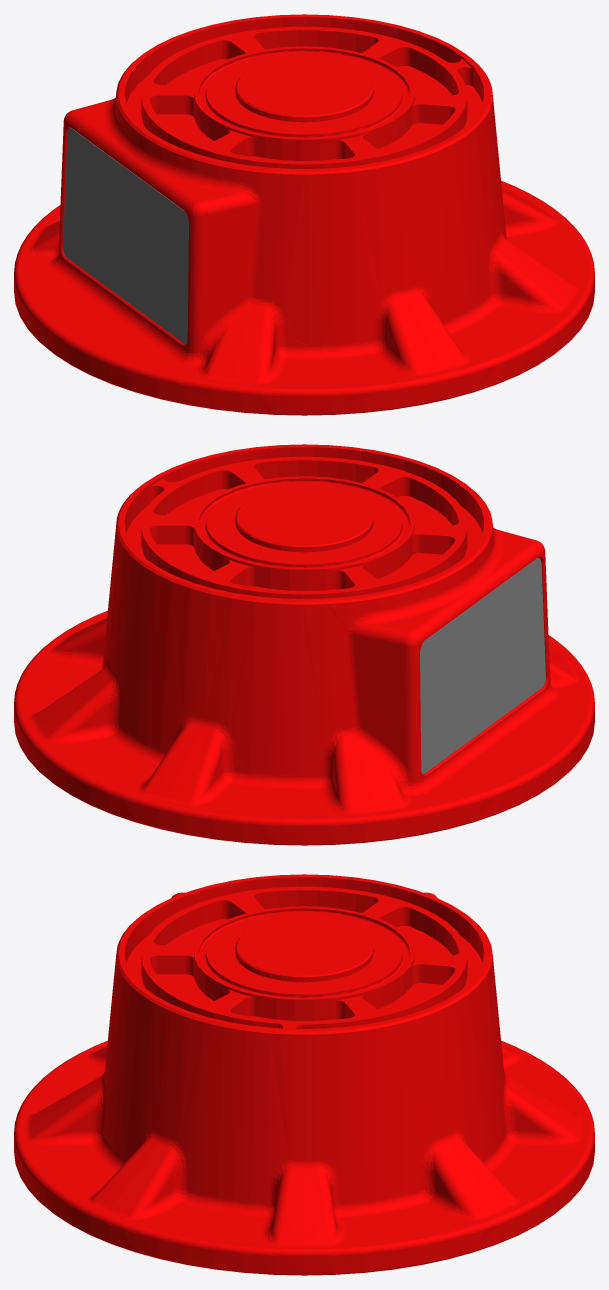
Rendered from SawyerLink0.dae.
3 views of the same model, one above another, from view 1: azimuth 30°, elevation 25°; view 2: azimuth 150°, elevation 25°; view 3: azimuth 270°, elevation 25° (orthographic).
Parts seen in each view (by area): view 1: SawyerLink0; view 2: SawyerLink0; view 3: SawyerLink0.
Part boxes in pixels (x1,y1,x2,y2): SawyerLink0: (14, 14, 594, 415); SawyerLink0: (14, 444, 594, 845); SawyerLink0: (14, 874, 594, 1275).
Size of the model in its own units: 0.21 by 0.21 by 0.0825.
